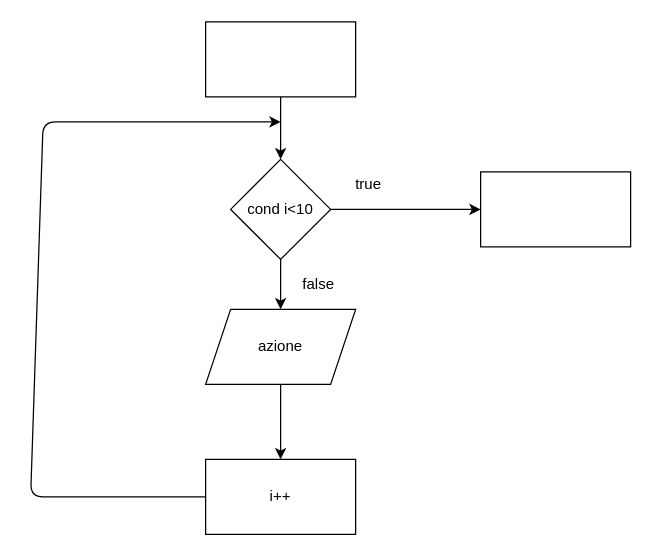
This 653x556 diagram has some shape labels left out. The box of each missing label's shape, as (x1, y1, x2, y2) in pixels:
esci dal ciclo: (479, 171, 631, 247)
i=0: (204, 21, 356, 97)
